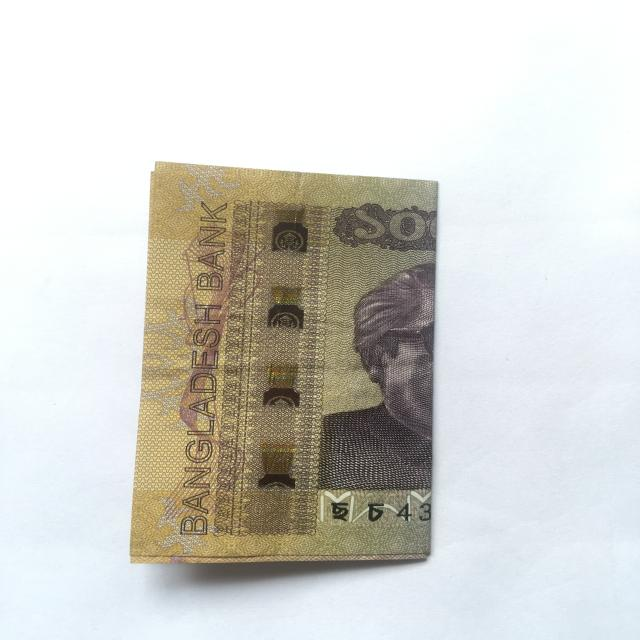Taka: (144, 150, 442, 570)
